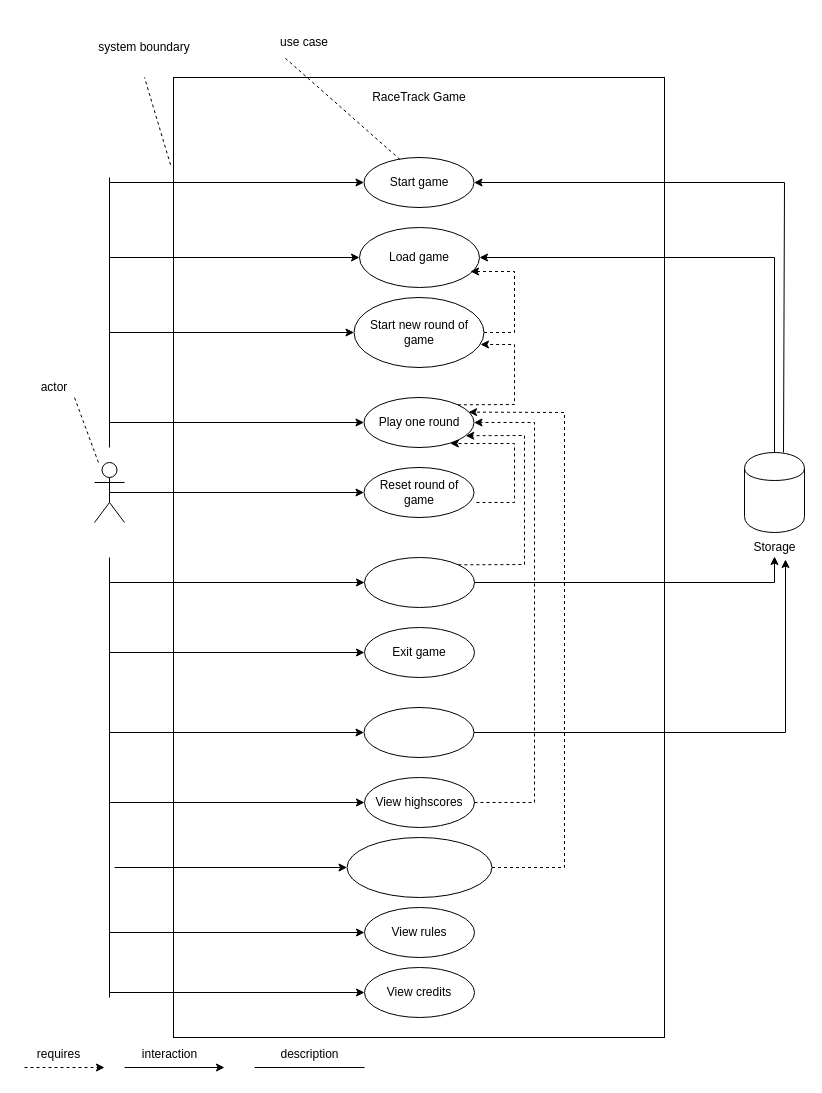
Image size: 822x1093. Some labels were removed from this diagram. Here are the shapes that lost their labels. From the top down, the centre of each, then its label:
At (x=109, y=492): "Player".
At (x=419, y=582): "Save game".
At (x=418, y=732): "Set game options".
At (x=419, y=867): "Compare highscore after one round of game".
